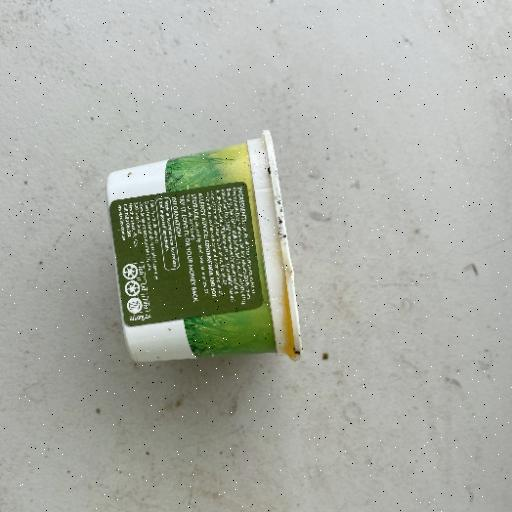Plastic: (102, 128, 304, 366)
